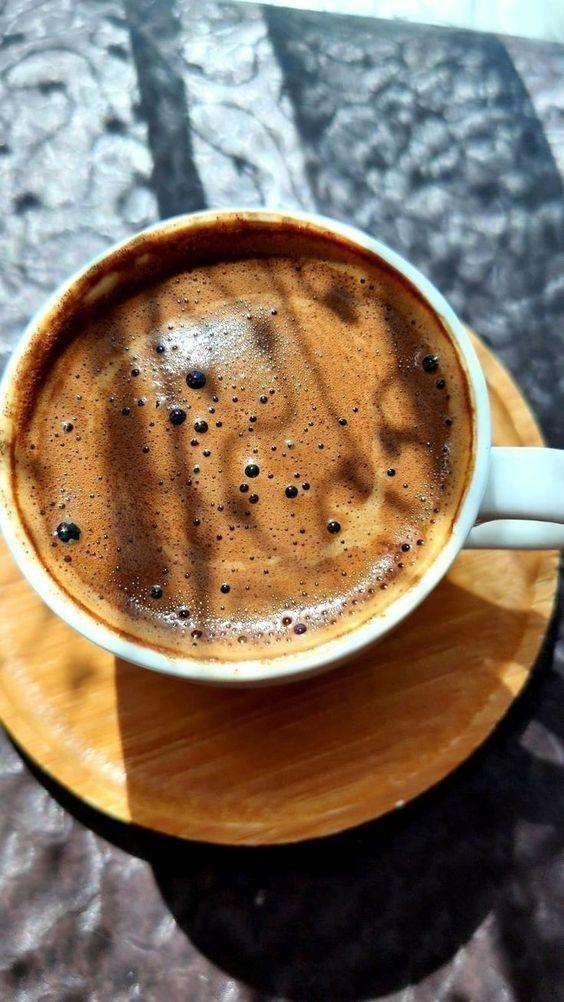cup-handle: (1, 203, 562, 692)
